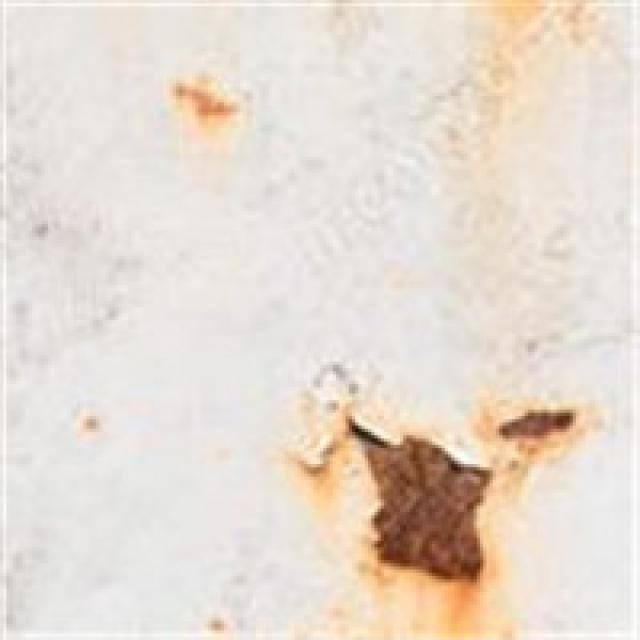Corrosion: (352, 422, 492, 580), (172, 76, 239, 123), (500, 412, 576, 438)
